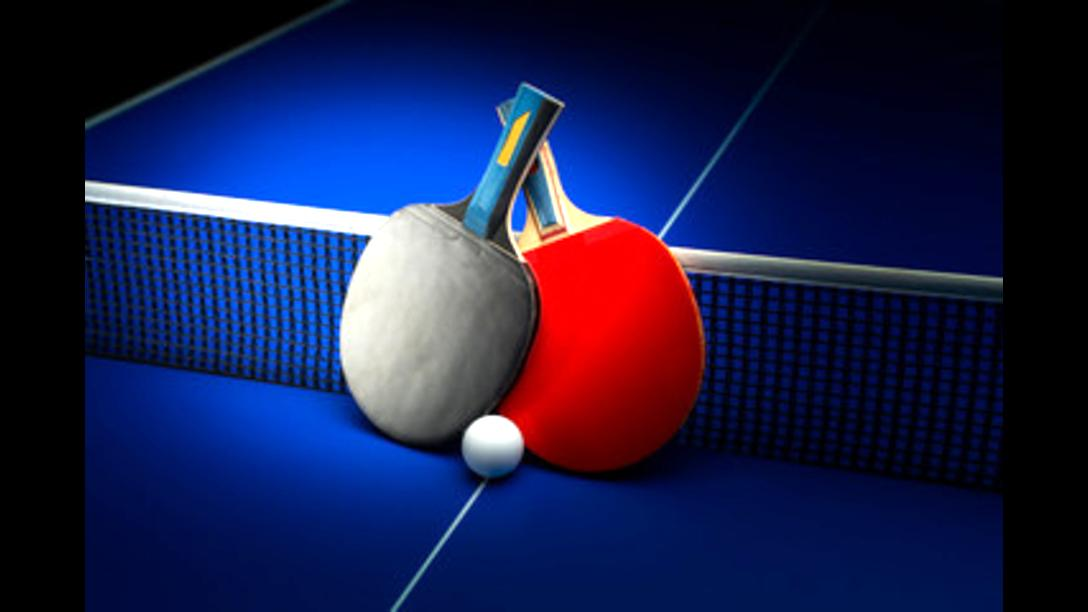Table-Tennis-Ball: (464, 415, 522, 475)
